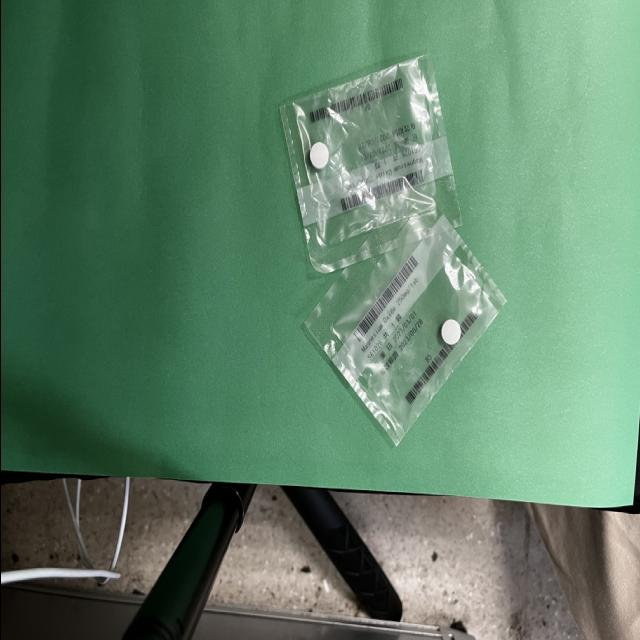Other Objects: (304, 216, 504, 445), (280, 57, 460, 273)
